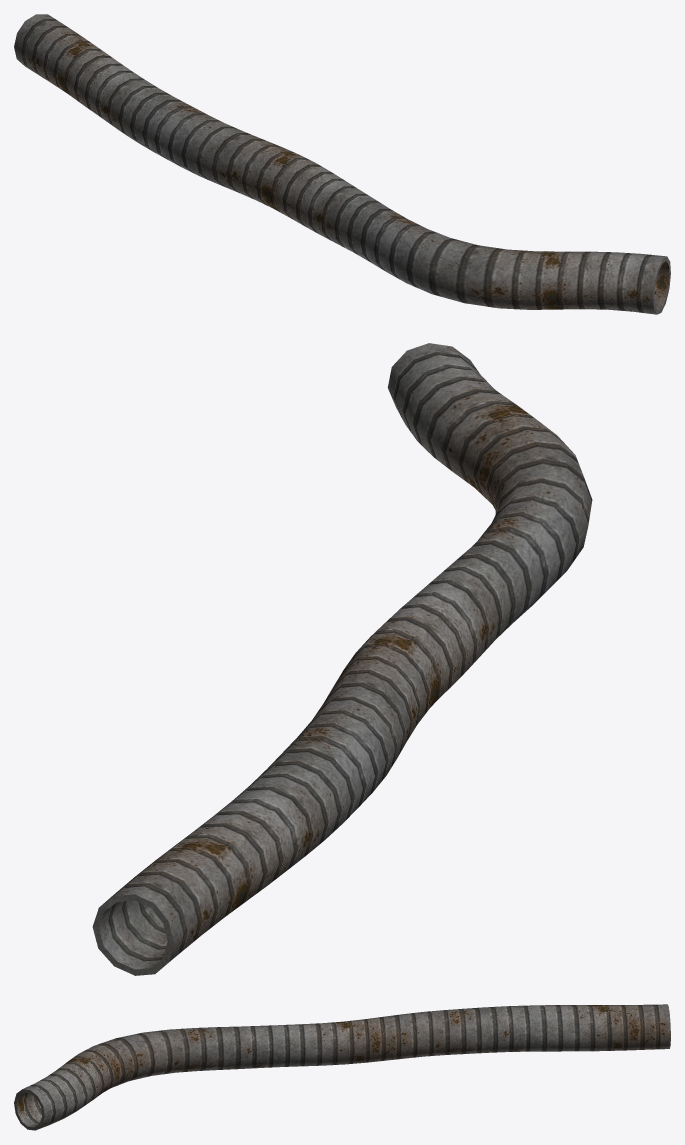
Rendered from pipe_e_3.obj.
3 views of the same model, one above another, from view 1: azimuth 30°, elevation 25°; view 2: azimuth 150°, elevation 25°; view 3: azimuth 270°, elevation 25° (orthographic). The views are drawn at different scales.
Visible parts, largest first — view 1: pipe_e_3; view 2: pipe_e_3; view 3: pipe_e_3.
Part boxes in pixels (x1,y1,x2,y2): pipe_e_3: [14, 14, 670, 314]; pipe_e_3: [92, 343, 592, 975]; pipe_e_3: [14, 1004, 670, 1130].
Bounding box in the file's own units: 1.31 × 0.25 × 3.65.
